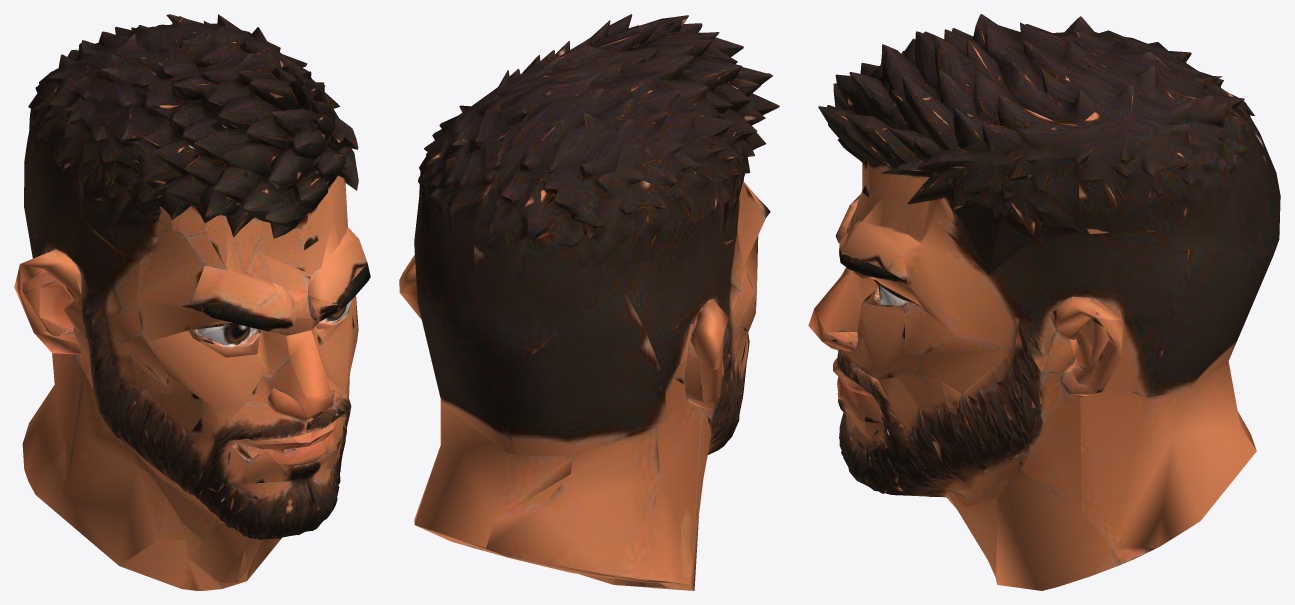
File: hdHumanTan.9822042053.glb
3 renders of one model, left to right at view 1: azimuth 30°, elevation 25°; view 2: azimuth 150°, elevation 25°; view 3: azimuth 270°, elevation 25°, orthographic. The views are drawn at different scales.
Bounding box in the file's own units: 1.17 × 1.9 × 1.51.
Materials: 1 (1 with a texture image).
